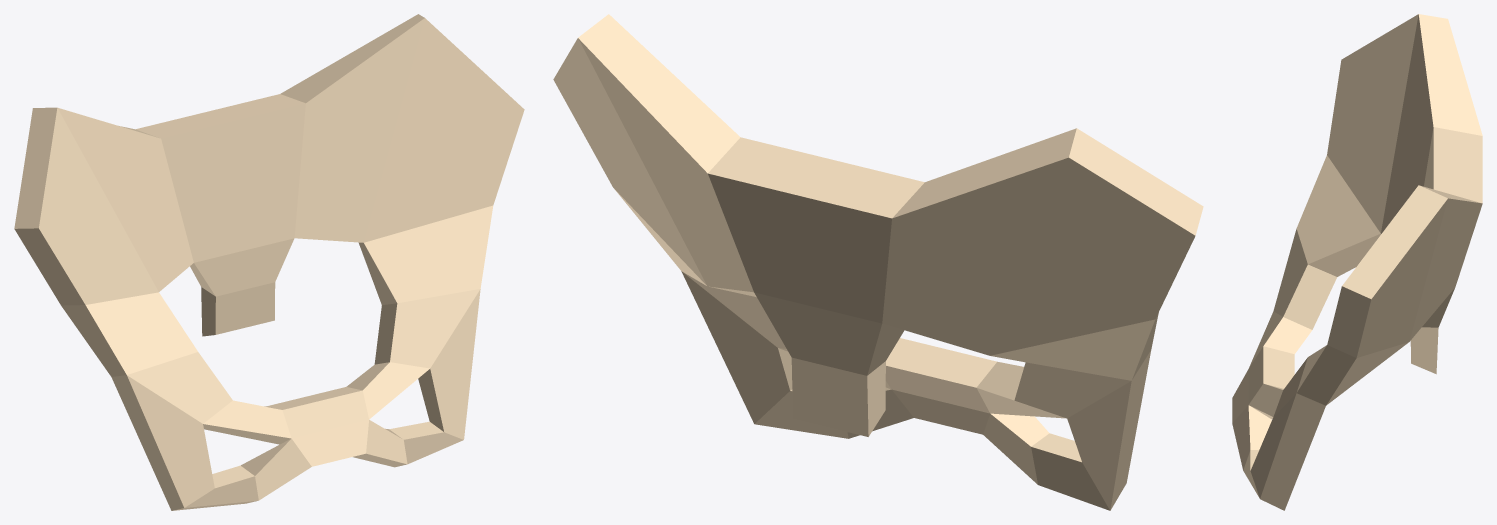
File: Pelvis.fbx
3 views of the same model, side by side, from view 1: azimuth 30°, elevation 25°; view 2: azimuth 150°, elevation 25°; view 3: azimuth 270°, elevation 25° (orthographic). The views are drawn at different scales.
Visible parts, largest first — view 1: Pelvis; view 2: Pelvis; view 3: Pelvis.
Part boxes in pixels (x1,y1,x2,y2): Pelvis: [14, 14, 524, 510]; Pelvis: [553, 14, 1203, 510]; Pelvis: [1232, 14, 1482, 510].
Size of the model in its own units: 610 by 422 by 275.
